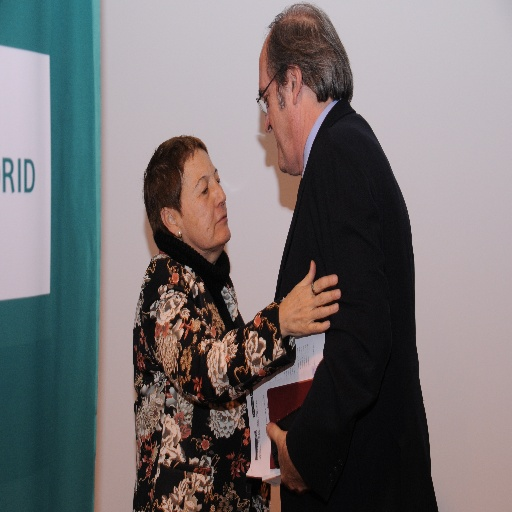hand: (265, 421, 308, 495), (300, 251, 338, 333)
